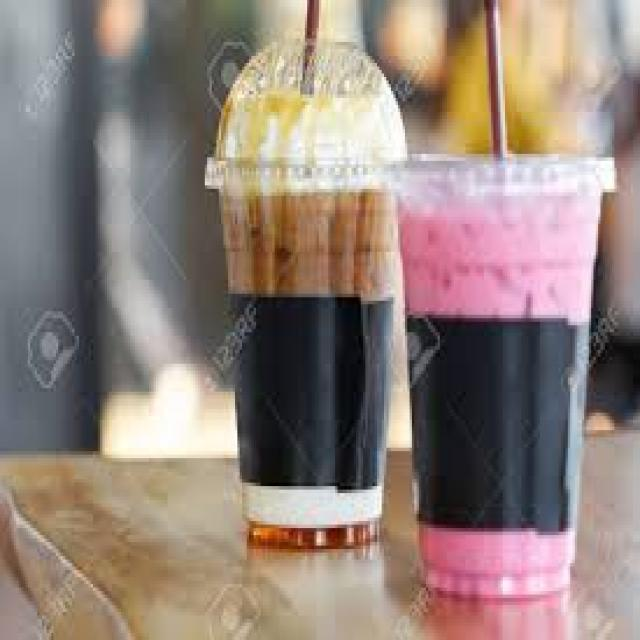cup: (400, 158, 600, 596), (223, 167, 397, 548)
